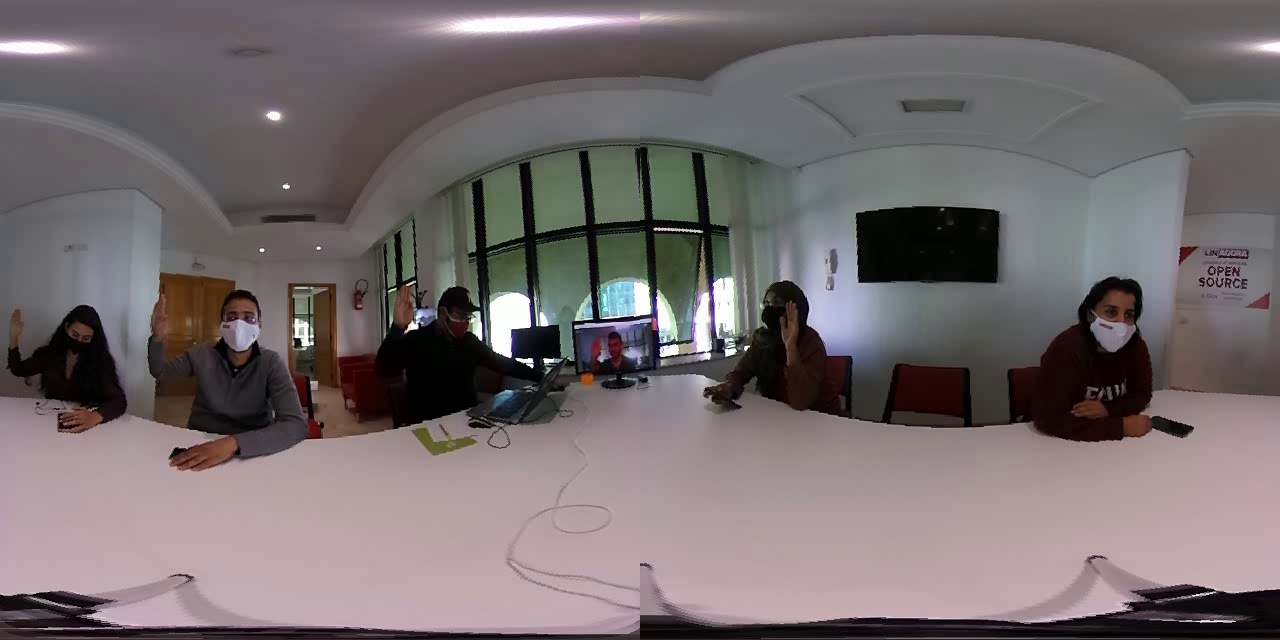person: (139, 278, 311, 471), (1016, 269, 1174, 444), (374, 277, 522, 422), (708, 271, 839, 418), (2, 297, 129, 430), (568, 313, 659, 384)
voting: (379, 279, 420, 383), (145, 278, 179, 397), (773, 292, 810, 399), (1, 300, 37, 387), (584, 330, 604, 372)
